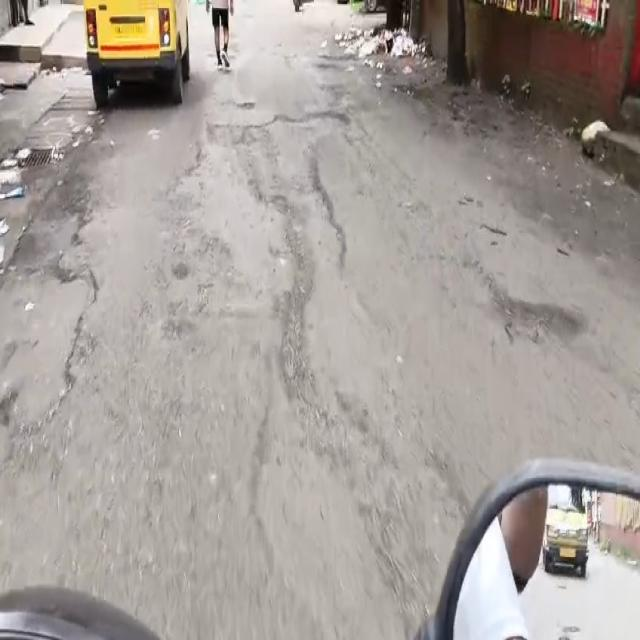road-pothole: (248, 343, 467, 635), (1, 177, 93, 439), (206, 112, 350, 267), (492, 288, 584, 349)
